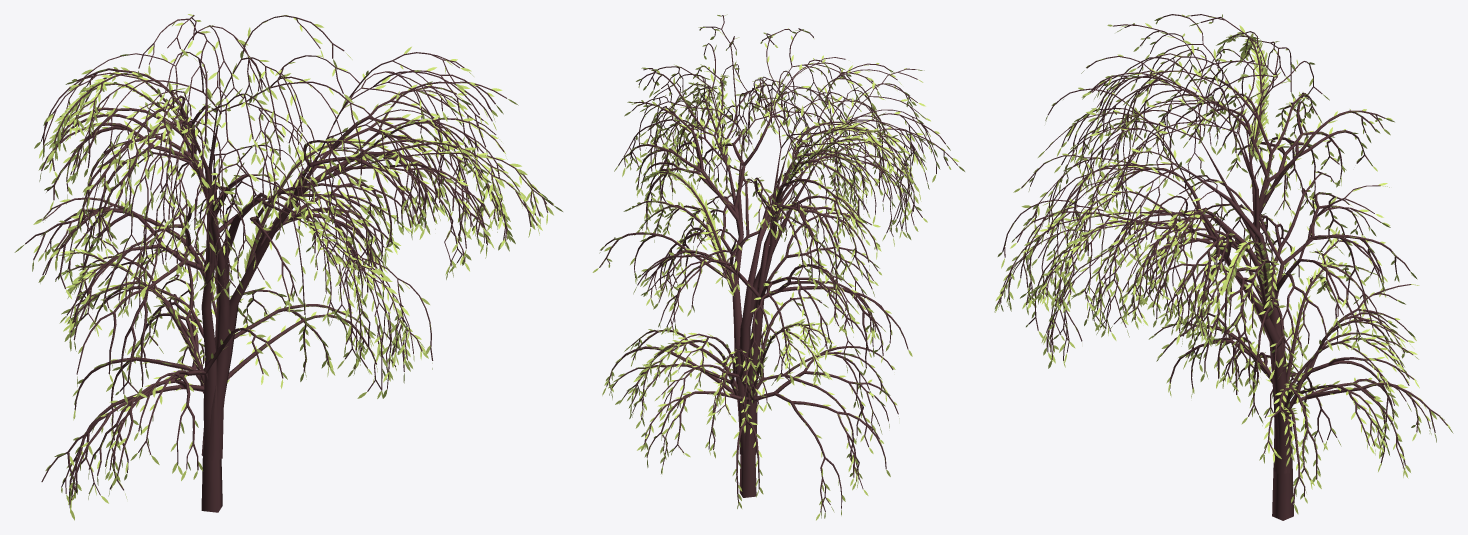
File: Large_Tree.fbx
3 renders of one model, left to right at view 1: azimuth 30°, elevation 25°; view 2: azimuth 150°, elevation 25°; view 3: azimuth 270°, elevation 25°, orthographic. The views are drawn at different scales.
Parts seen in each view (by area): view 1: leaves; view 2: leaves; view 3: leaves.
Boxes of the visible parts, x1,y1,x2,y2 form: leaves: [14, 14, 562, 520]; leaves: [592, 14, 964, 520]; leaves: [994, 14, 1453, 520].
Size of the model in its own units: 21.61 by 27.19 by 23.77.
